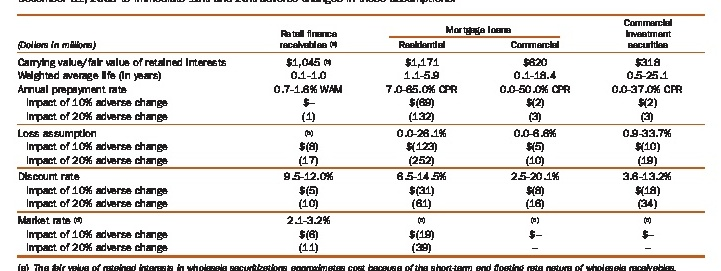table: (0, 0, 721, 271)
